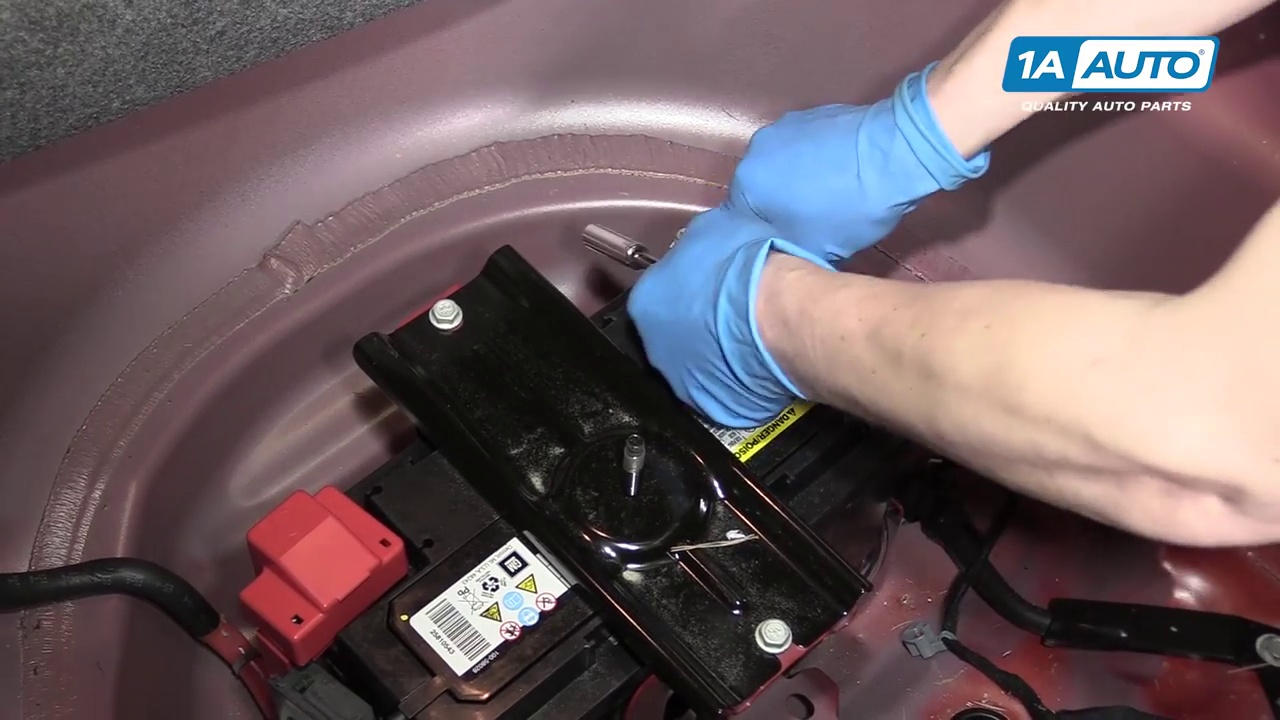battery: (267, 253, 895, 716)
pos_connected: (221, 451, 432, 664)
